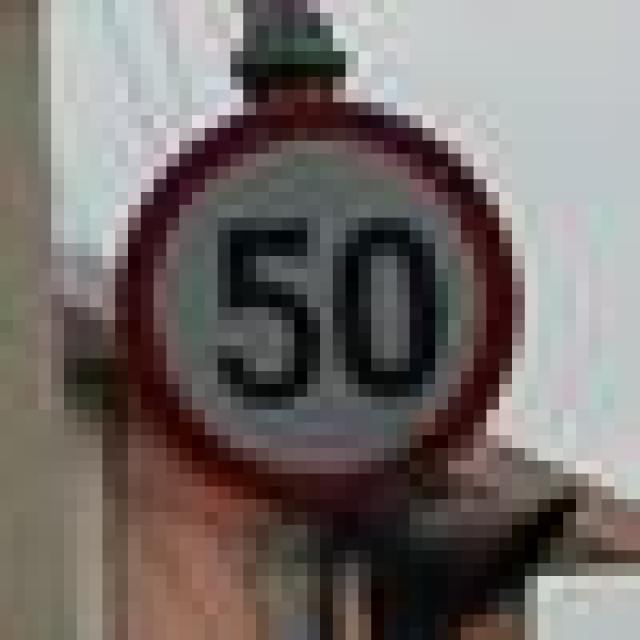speed_limit_30: (90, 90, 524, 499)
